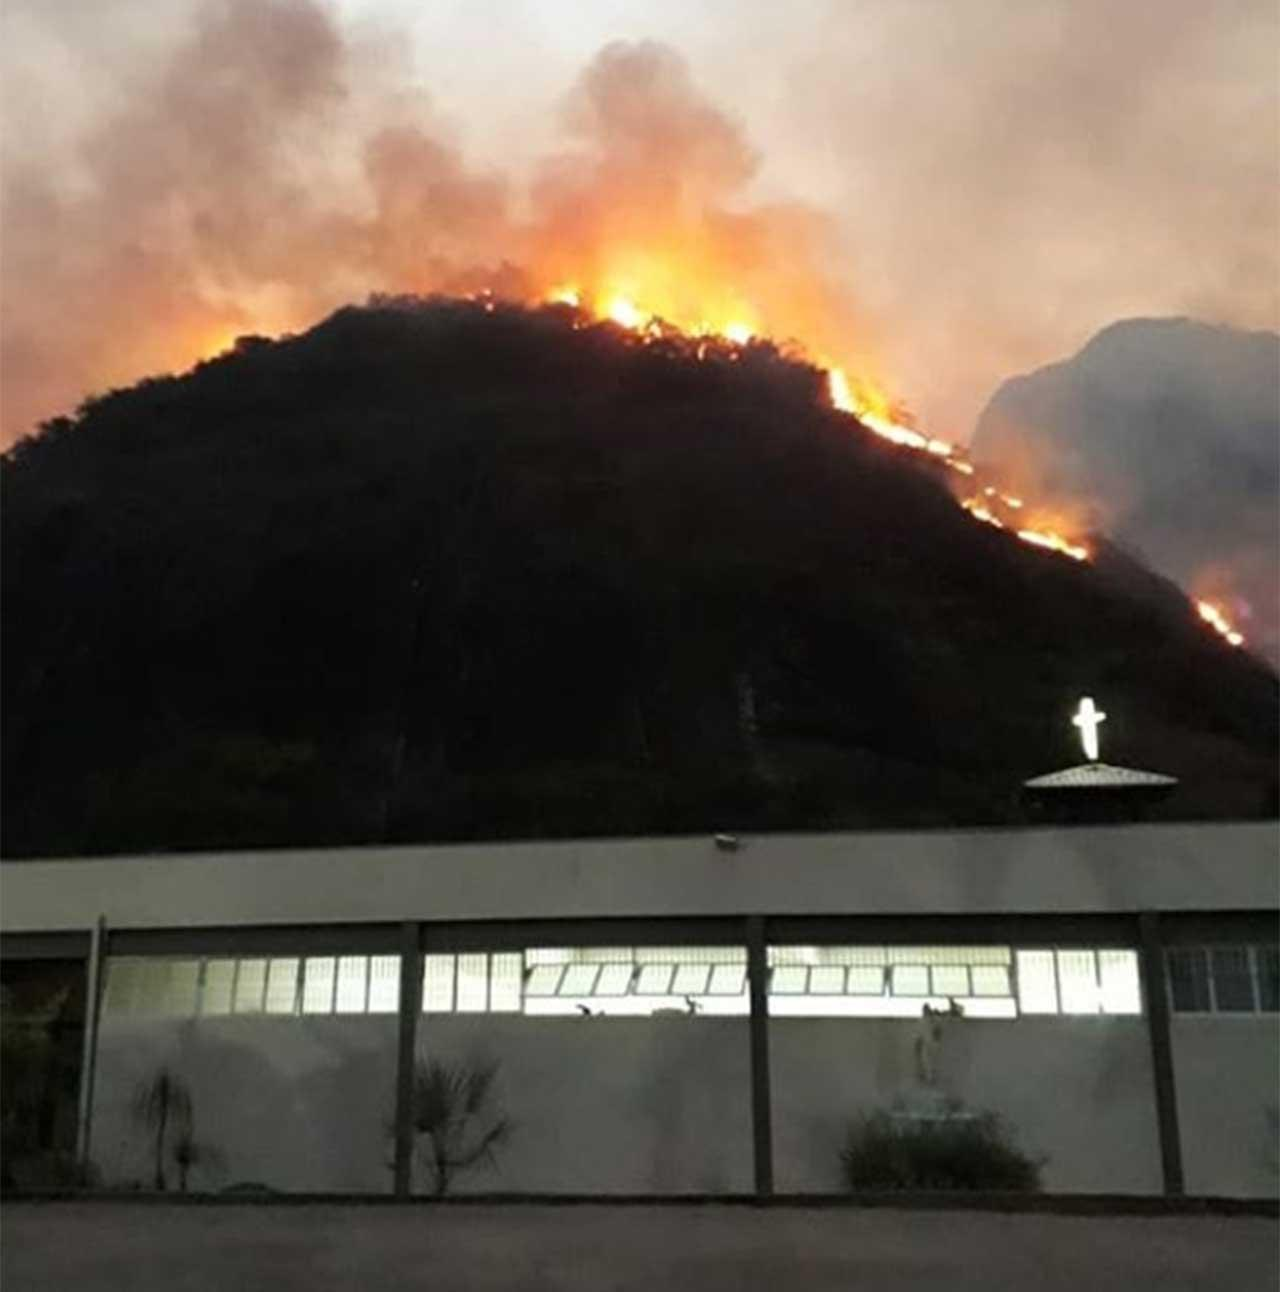Fire: (549, 256, 757, 344), (822, 366, 978, 475), (965, 488, 1090, 559), (1185, 596, 1242, 641)
